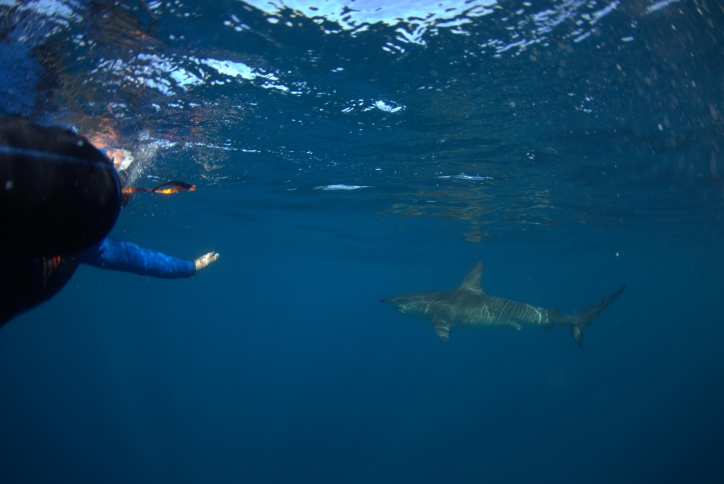Hammer: (362, 241, 633, 375)
